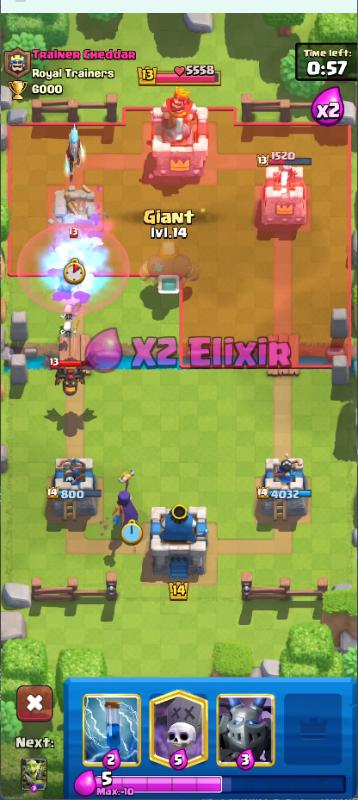squelette: (60, 301, 81, 323), (58, 321, 79, 341)
